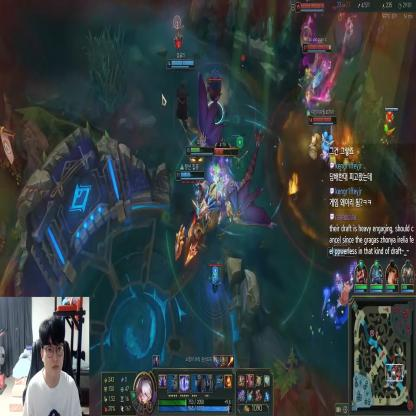streamer: (22, 315, 82, 416)
